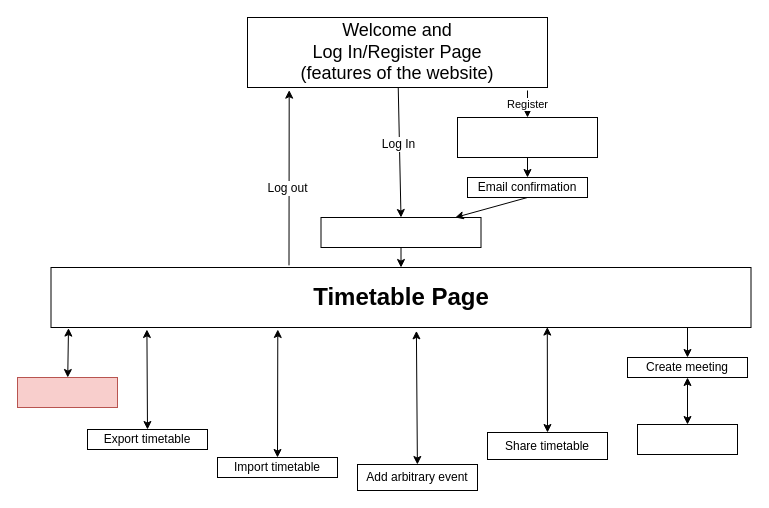
The diagram is 769 pixels wide and 508 high, and some of its shapes have lost their labels. Each missing label, with the centre of its shape:
"Find availability of a room" belongs at [67,392].
"Find possible time for meeting" belongs at [687,439].
"Log In with Personal Account" belongs at [400,232].
"Register and input details" belongs at [527,137].
